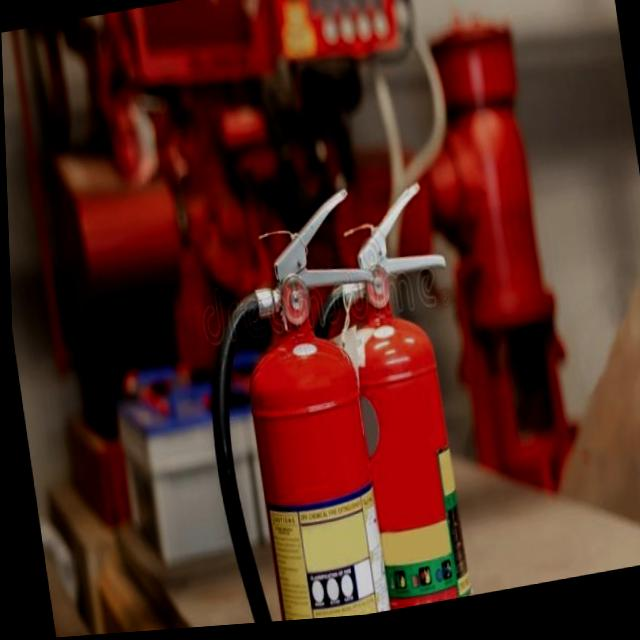FireExtinguisher: (175, 177, 421, 630), (257, 175, 491, 625)
